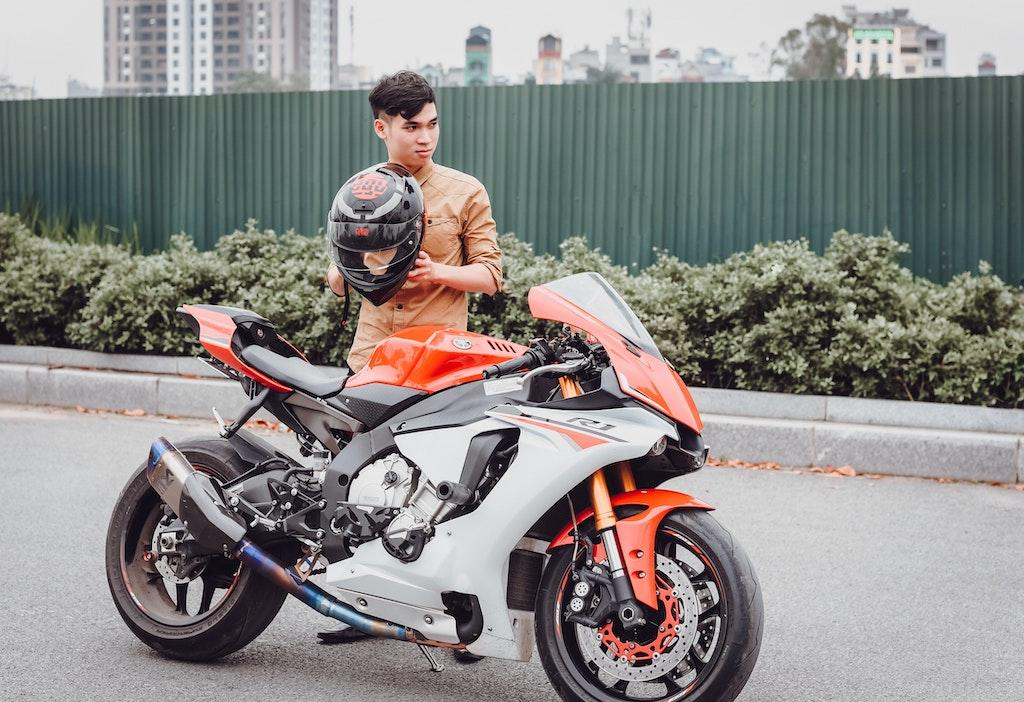helmet: (325, 161, 429, 308)
nohelmet: (368, 68, 441, 170)
